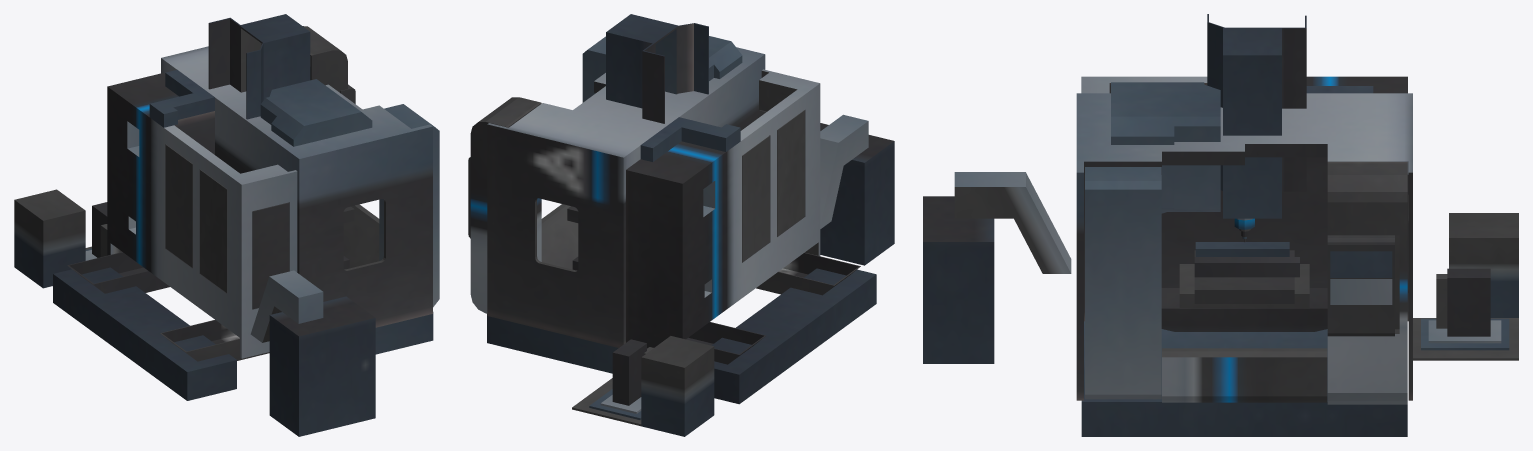
File: 12xian_she_bei_11.fbx
3 renders of one model, left to right at view 1: azimuth 30°, elevation 25°; view 2: azimuth 150°, elevation 25°; view 3: azimuth 270°, elevation 25°, orthographic. The views are drawn at different scales.
Visible parts, largest first — view 1: 12xian_she_bei_11; view 2: 12xian_she_bei_11; view 3: 12xian_she_bei_11.
Boxes of the visible parts, x1,y1,x2,y2 form: 12xian_she_bei_11: (14,14,439,436); 12xian_she_bei_11: (468,14,894,436); 12xian_she_bei_11: (923,14,1518,436).
Size of the model in its own units: 292 by 292 by 459.
1 material, 1 textured.
